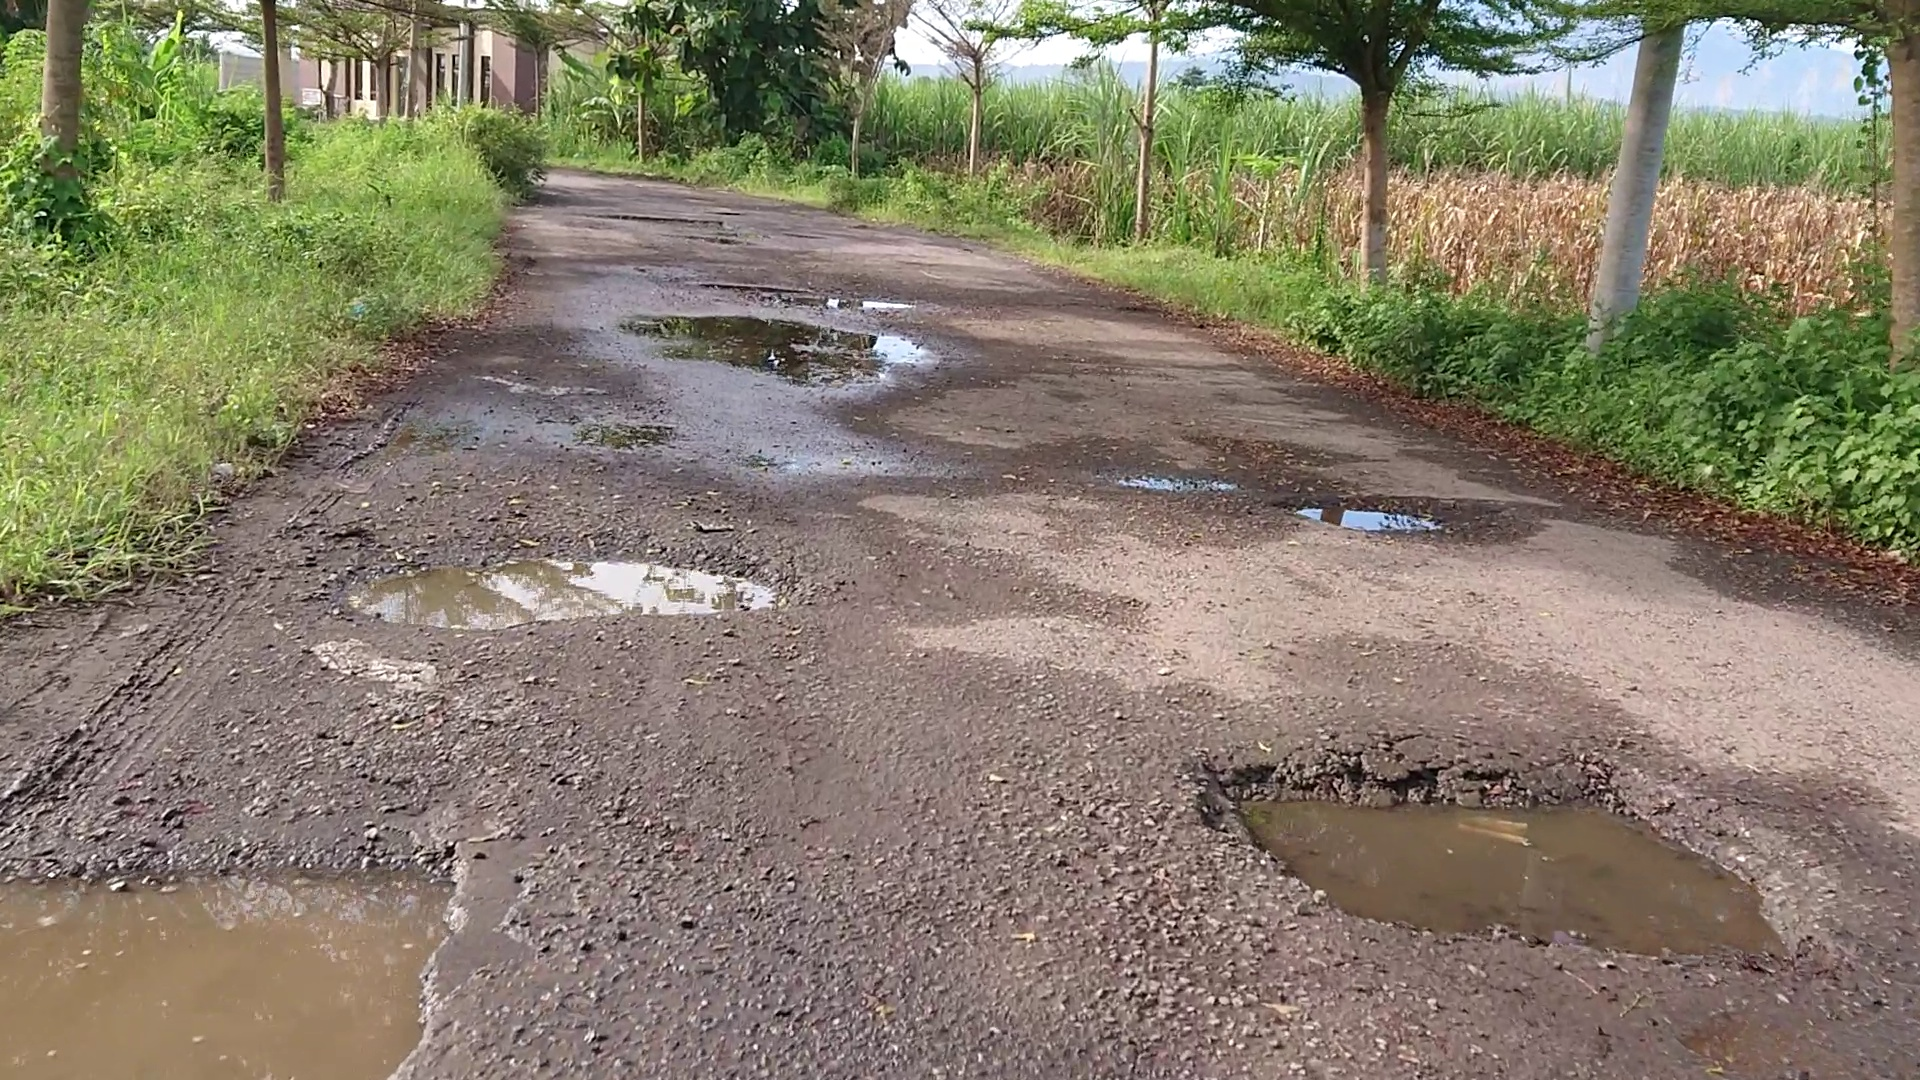Berlubang: (1, 851, 492, 1077), (1236, 771, 1785, 963), (665, 302, 920, 385), (372, 572, 777, 615), (1294, 502, 1453, 534)
